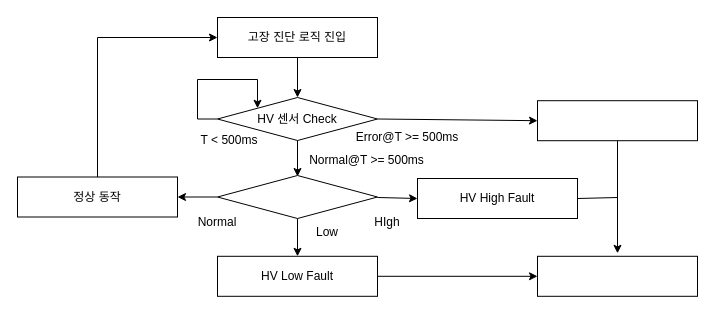
Image size: 715x314. Some labels were removed from this diagram. The centre of each missing label's shape, as x and y in pixels:
"HV Check" goes at (x=297, y=196).
"HV 센서 Fault" goes at (x=617, y=120).
"작동 정지 후 기본 로직 수행" goes at (x=617, y=275).
